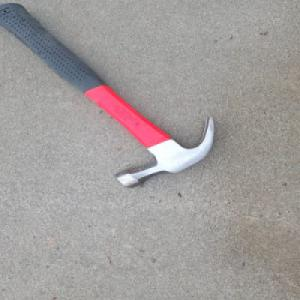Hammer: (0, 16, 220, 194)
